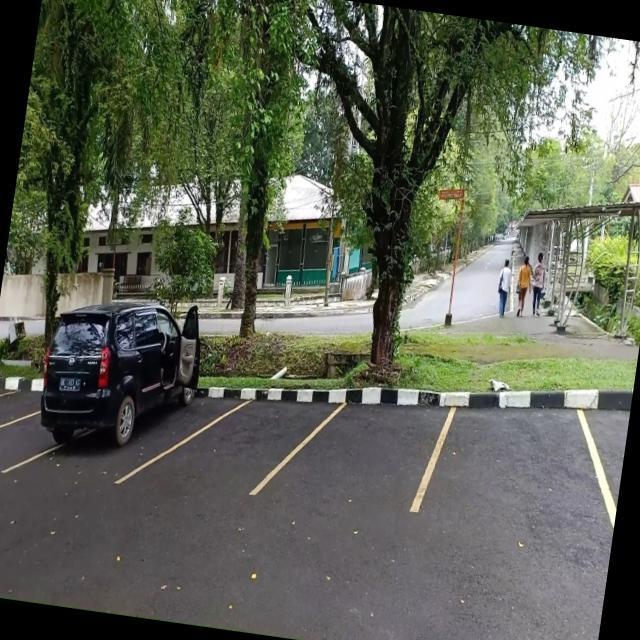empty: (420, 363, 606, 547), (291, 369, 440, 516), (176, 356, 303, 505)
occupied: (26, 346, 196, 493)
